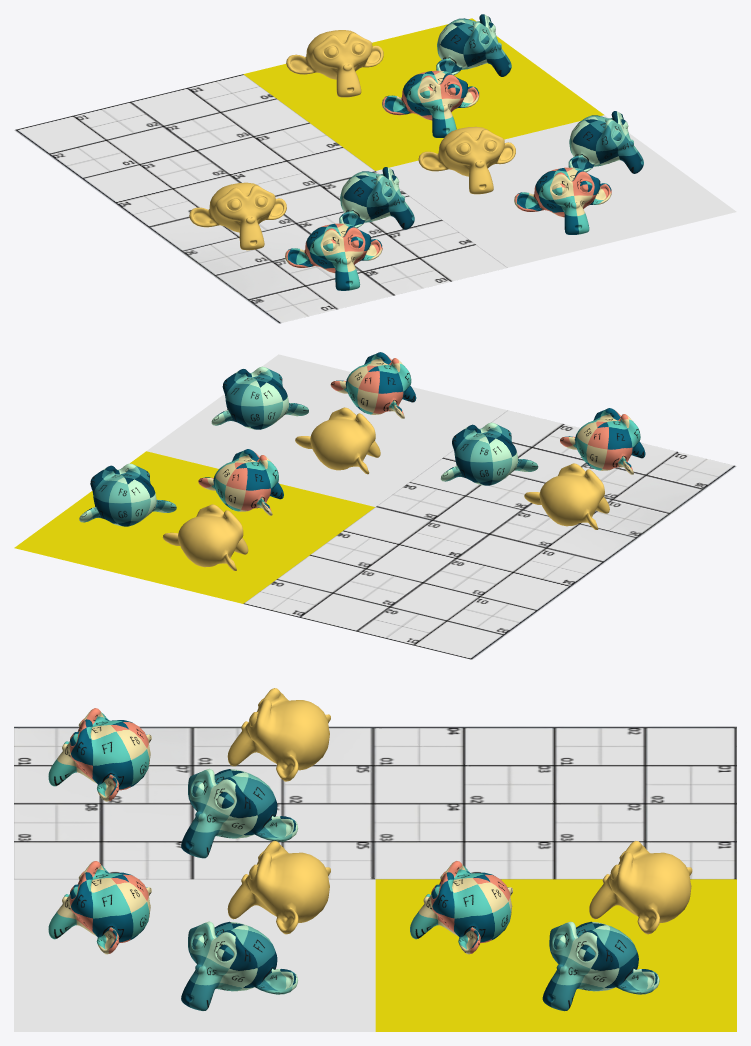
3 renders of one model, top to bottom at view 1: azimuth 30°, elevation 25°; view 2: azimuth 150°, elevation 25°; view 3: azimuth 270°, elevation 25°, orthographic. The views are drawn at different scales.
Parts seen in each view (by area): view 1: Plane, Suzanne.003, Suzanne.004, Suzanne.007, Suzanne.005, Suzanne.008, Suzanne.002, Suzanne.006, Suzanne.001, Suzanne; view 2: Plane, Suzanne.006, Suzanne.001, Suzanne, Suzanne.004, Suzanne.007, Suzanne.002, Suzanne.003, Suzanne.005, Suzanne.008; view 3: Plane, Suzanne.001, Suzanne, Suzanne.006, Suzanne.004, Suzanne.008, Suzanne.005, Suzanne.007, Suzanne.002, Suzanne.003.
Boxes of the visible parts, x1=… form: Plane: x1=14, y1=18, x2=736, y2=323; Suzanne.003: x1=286, y1=30, x2=383, y2=97; Suzanne.004: x1=514, y1=167, x2=611, y2=234; Suzanne.007: x1=285, y1=223, x2=382, y2=290; Suzanne.005: x1=418, y1=126, x2=515, y2=194; Suzanne.008: x1=189, y1=182, x2=286, y2=250; Suzanne.002: x1=382, y1=70, x2=479, y2=137; Suzanne.006: x1=339, y1=167, x2=414, y2=229; Suzanne.001: x1=436, y1=14, x2=511, y2=76; Suzanne: x1=568, y1=111, x2=643, y2=173; Plane: x1=14, y1=354, x2=736, y2=659; Suzanne.006: x1=440, y1=422, x2=538, y2=485; Suzanne.001: x1=79, y1=463, x2=176, y2=526; Suzanne: x1=211, y1=366, x2=308, y2=429; Suzanne.004: x1=330, y1=352, x2=416, y2=418; Suzanne.007: x1=560, y1=408, x2=645, y2=474; Suzanne.002: x1=198, y1=449, x2=283, y2=515; Suzanne.003: x1=162, y1=504, x2=248, y2=570; Suzanne.005: x1=295, y1=407, x2=380, y2=474; Suzanne.008: x1=524, y1=463, x2=609, y2=529; Plane: x1=14, y1=726, x2=736, y2=1031; Suzanne.001: x1=542, y1=921, x2=659, y2=1011; Suzanne: x1=181, y1=921, x2=297, y2=1010; Suzanne.006: x1=181, y1=768, x2=297, y2=858; Suzanne.004: x1=48, y1=861, x2=151, y2=954; Suzanne.008: x1=227, y1=688, x2=330, y2=781; Suzanne.005: x1=227, y1=841, x2=330, y2=934; Suzanne.007: x1=48, y1=708, x2=151, y2=801; Suzanne.002: x1=410, y1=861, x2=512, y2=954; Suzanne.003: x1=589, y1=841, x2=692, y2=934.
Size of the model in its own units: 2 by 0.2222 by 2.
6 materials, 3 textured.
